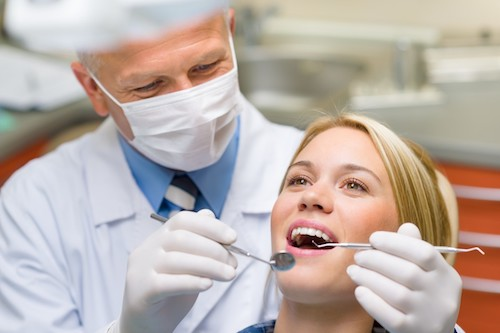mask: (120, 66, 241, 174)
